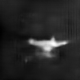plane: (26, 34, 70, 59)
